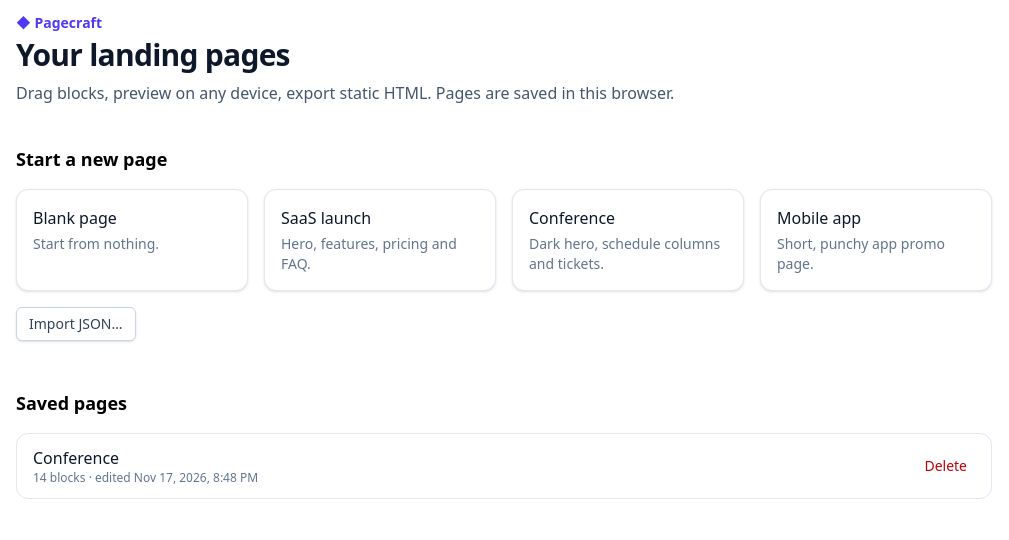
it: PagesHome › lists saved pages and deletes one after confirmation
Expected: the text "14 blocks · edited Nov 17, 2026, 8:48 PM" is shown, top-left (33, 470), bottom-right (258, 486)
Click the button with aria-label "Delete Conference" at point(946, 466), box top-left (916, 452), bottom-right (975, 480)
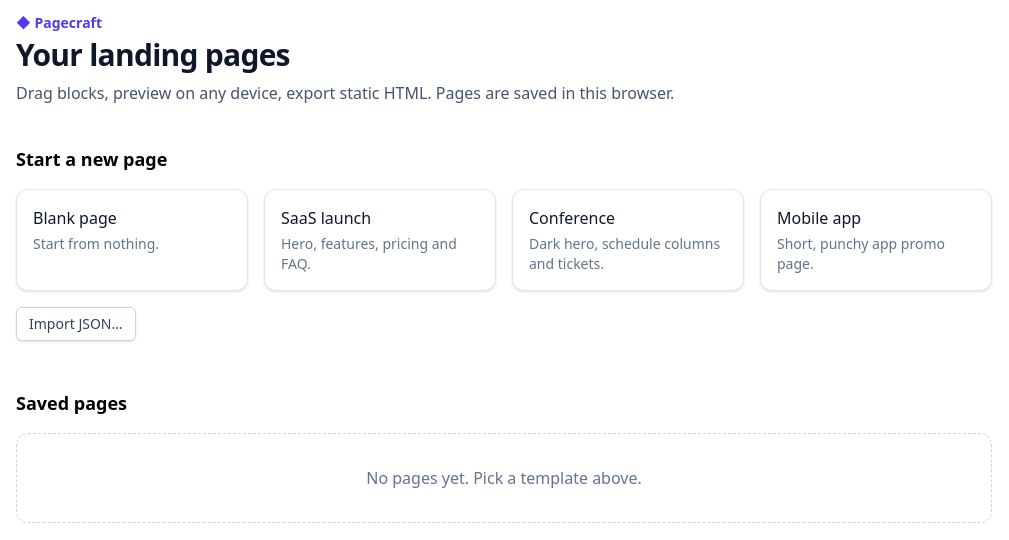
Expected: the text "No pages yet. Pick a template above." is shown, top-left (16, 433), bottom-right (992, 523)
